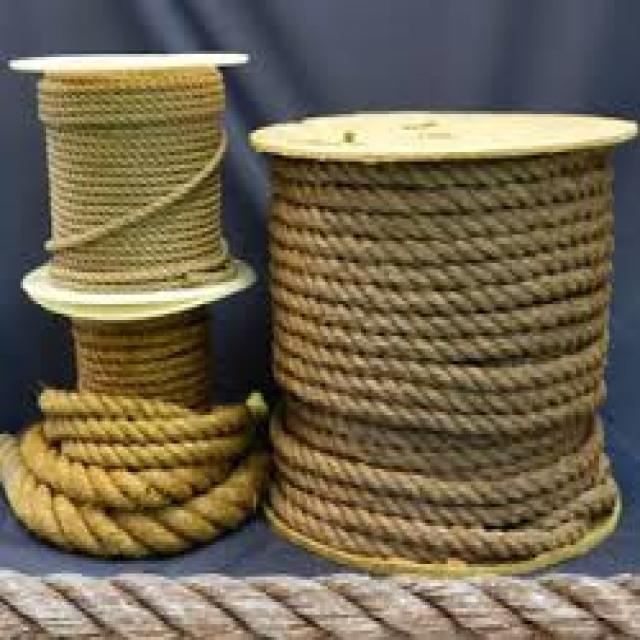rope: (252, 111, 636, 572), (0, 56, 268, 556)
